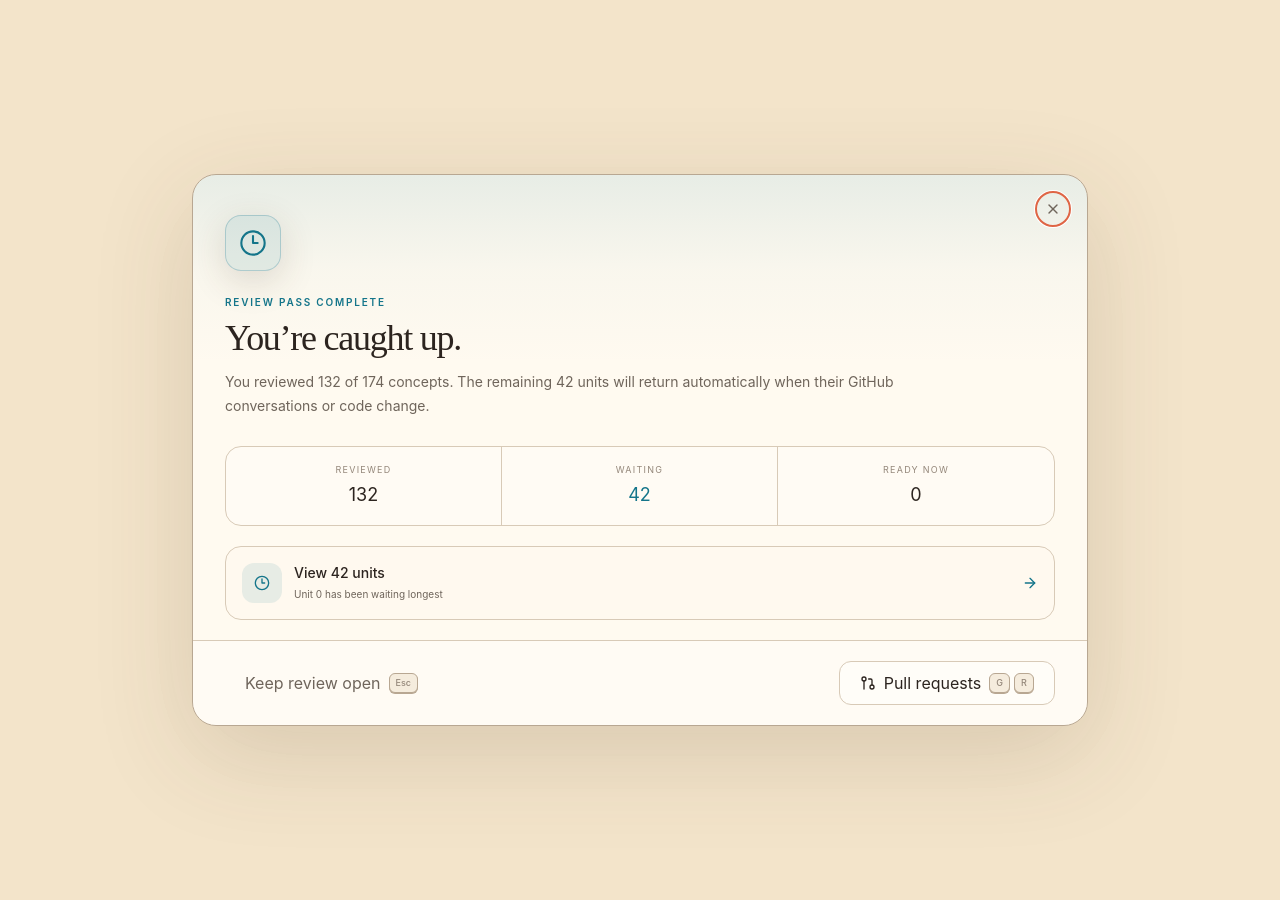
Test case: ReviewWaitingCompletion › summarizes a large waiting set before rendering its rows
Expected: the heading "You’re caught up." is shown, [225, 318, 461, 358]
Expected: the text "42" is shown, [628, 484, 651, 505]
Click the button "View 42 units Unit 0 has been waiting longest" at (262, 583), box [225, 546, 1055, 620]
(page scrolled)
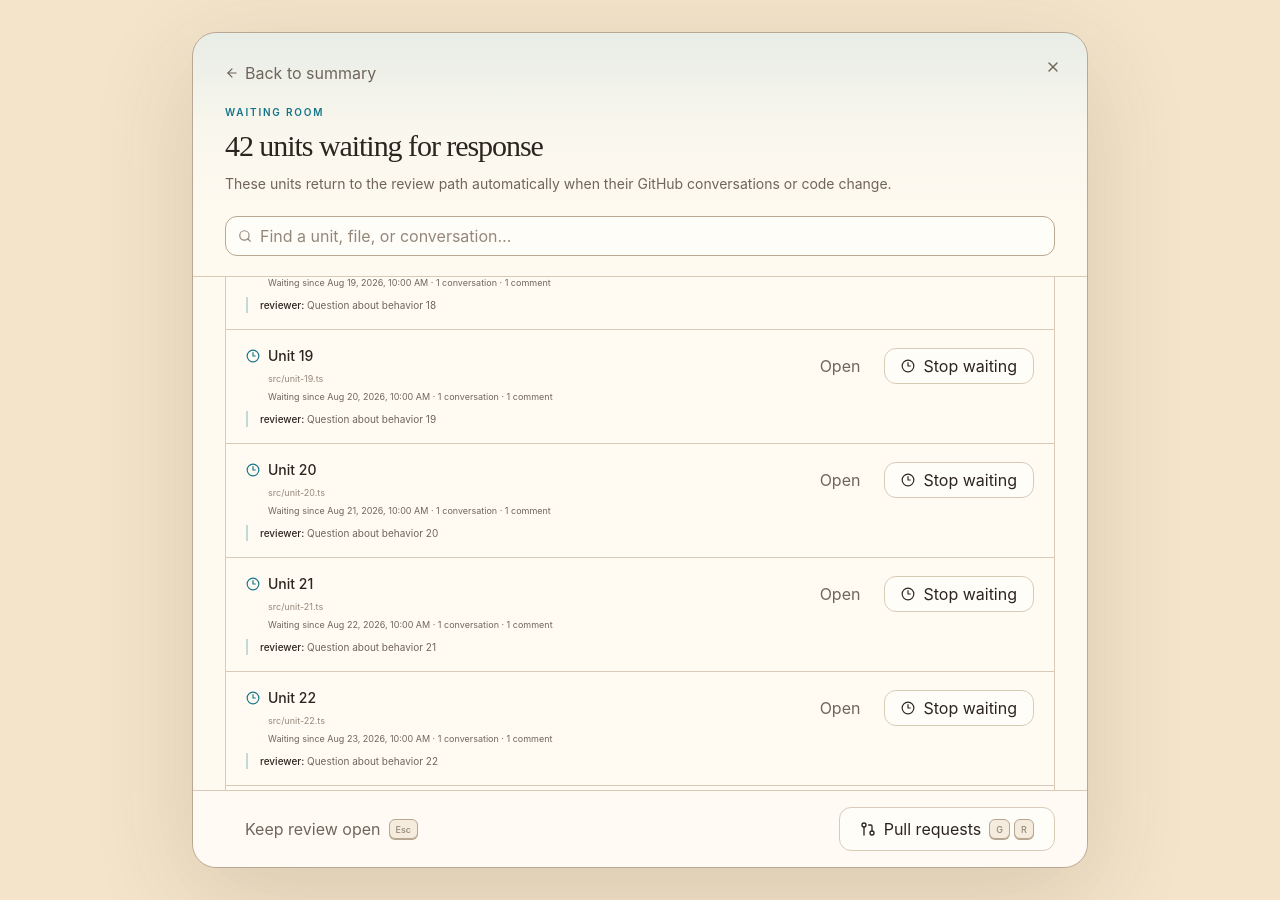
Now the heading "42 units waiting for response" is shown, box [225, 129, 543, 162]
Now the text "Question about behavior 20" is shown, box [307, 527, 438, 539]
